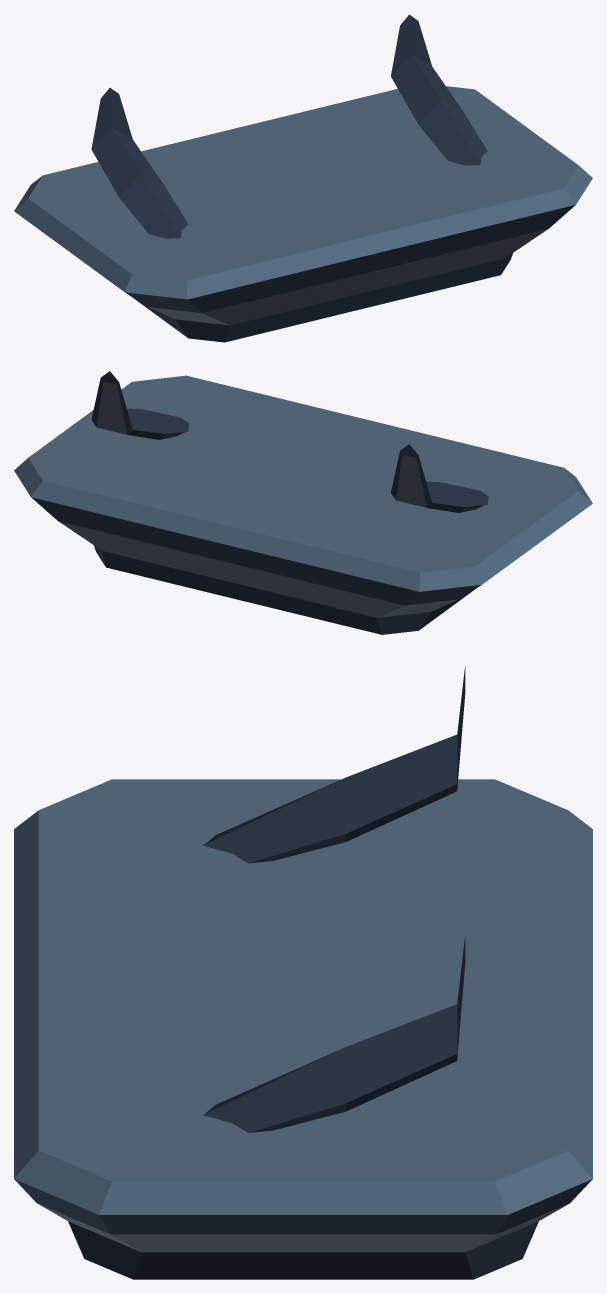
The model's file is dock-landing.glb.
3 views of the same model, one above another, from view 1: azimuth 30°, elevation 25°; view 2: azimuth 150°, elevation 25°; view 3: azimuth 270°, elevation 25° (orthographic). The views are drawn at different scales.
Visible parts, largest first — view 1: dock-landing; view 2: dock-landing; view 3: dock-landing.
Part boxes in pixels (left/top/right/bottom): dock-landing: left=14, top=14, right=592, bottom=342; dock-landing: left=14, top=371, right=592, bottom=634; dock-landing: left=14, top=666, right=592, bottom=1279.
Size of the model in its own units: 6.1 by 2.27 by 3.54.
